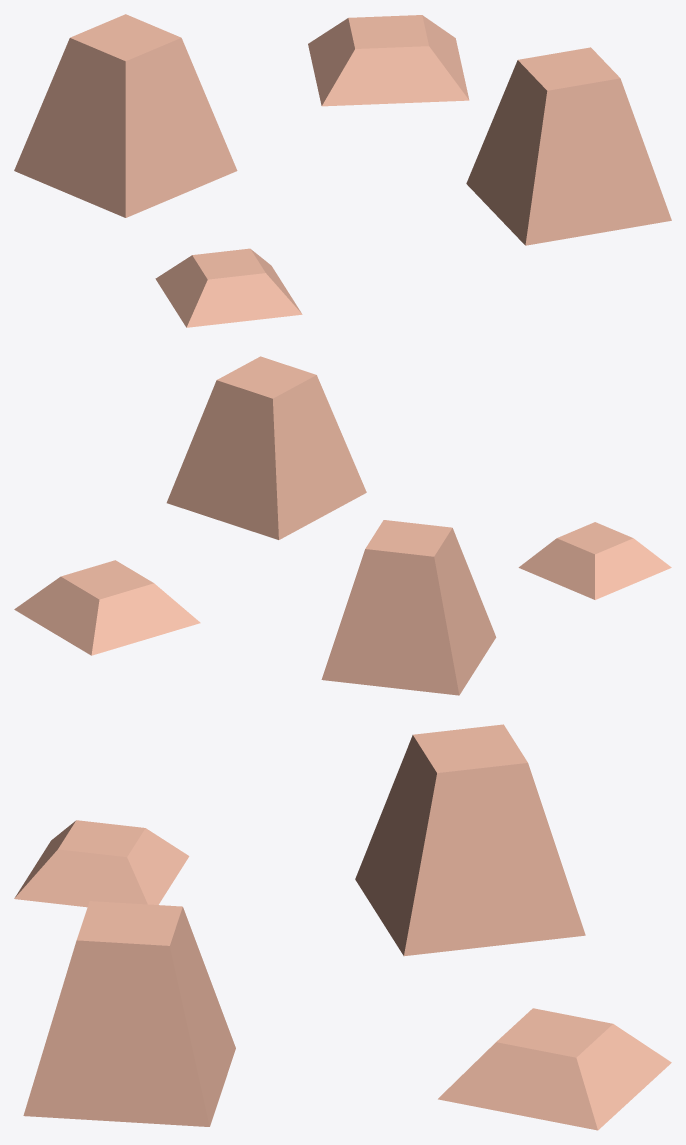
The model's file is rocks_smallB.glb.
The picture shows the model from 3 angles, top to bottom: view 1: azimuth 30°, elevation 25°; view 2: azimuth 150°, elevation 25°; view 3: azimuth 270°, elevation 25°; orthographic projection. The views are drawn at different scales.
Visible parts, largest first — view 1: rocks_smallB; view 2: rocks_smallB; view 3: rocks_smallB.
Part boxes in pixels (x1,y1,x2,y2): rocks_smallB: (14,14,671,327); rocks_smallB: (14,356,671,695); rocks_smallB: (14,724,671,1130).
Bounding box in the file's own units: 0.7288 × 0.186 × 0.6988.
